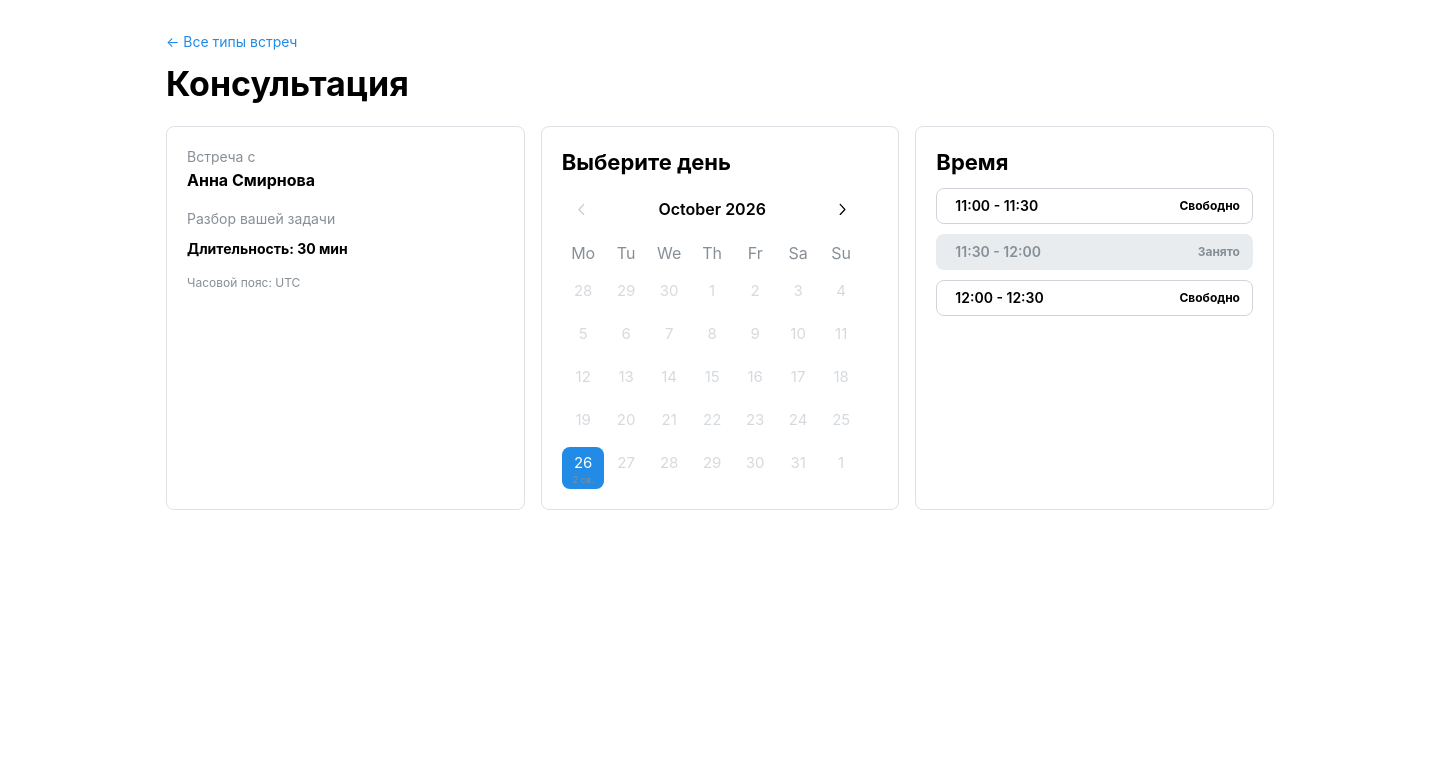
Scenario: гостевая страница: запись на выбранный тип встречи › пустое имя и кривая почта — ошибки полей, запрос не уходит
Click the button "11:00 - 11:30 Свободно". click: (997, 206)
box: top-left (936, 188), bottom-right (1253, 224)
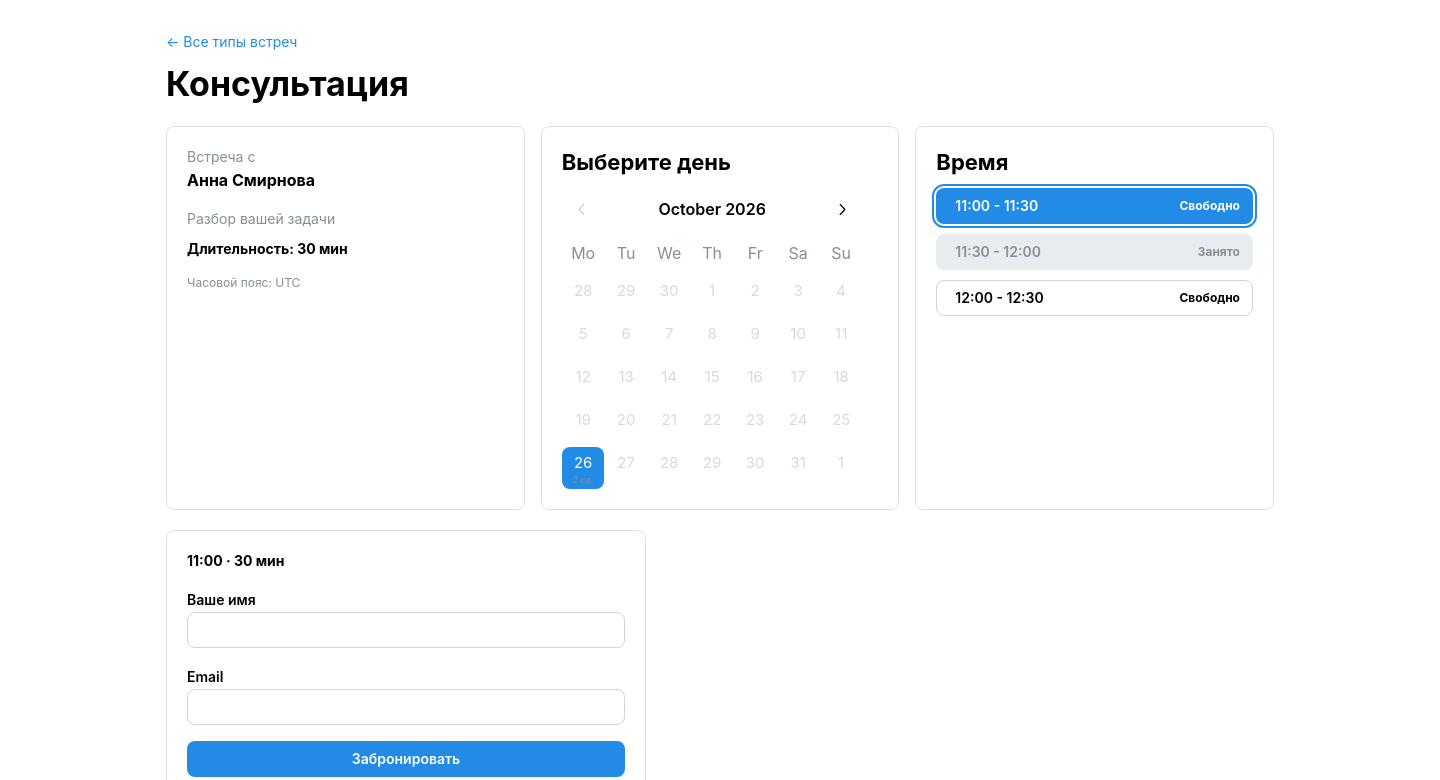
Type "не почта" into the field labelled "Email". click: (406, 707)
box: top-left (187, 689), bottom-right (625, 725)
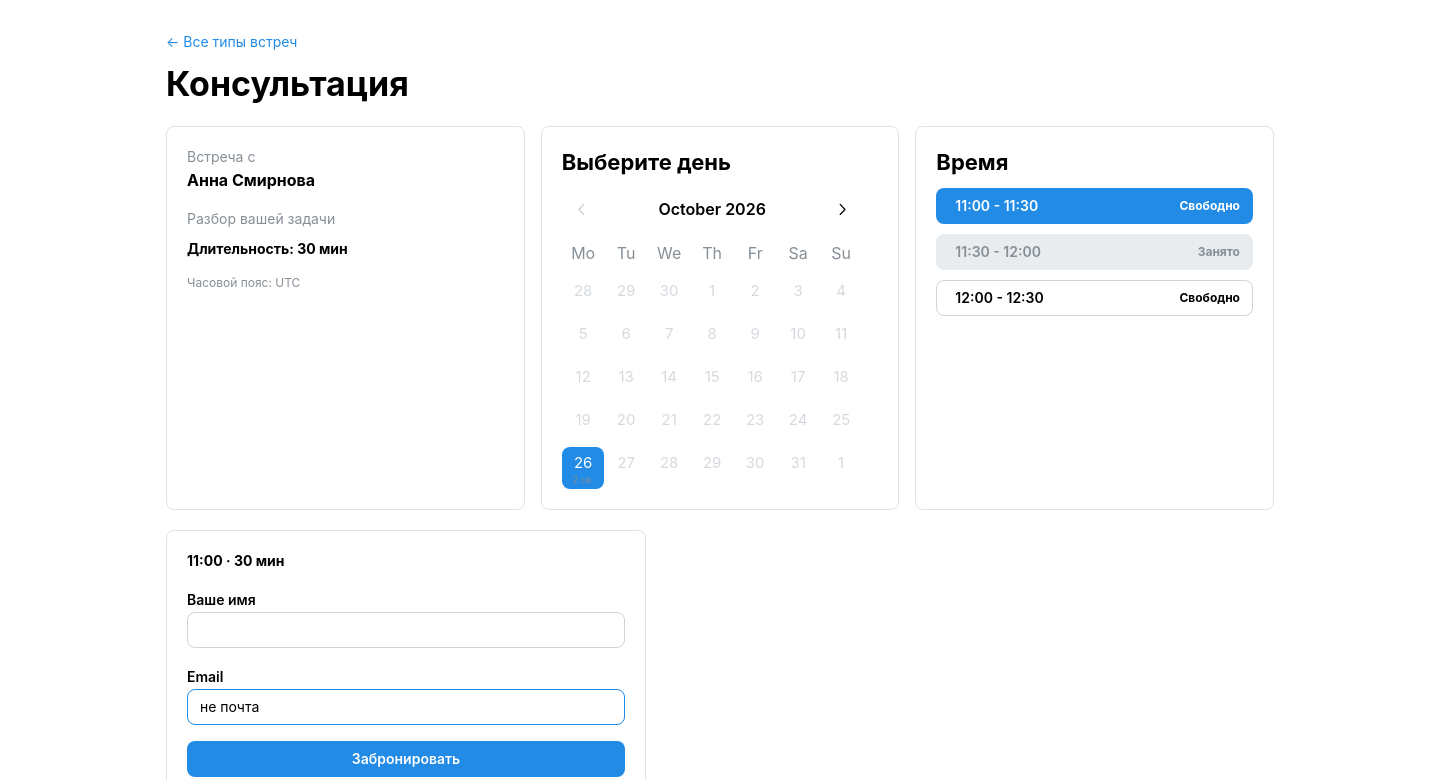
Click the button "Забронировать". click: (406, 759)
box: top-left (187, 741), bottom-right (625, 777)
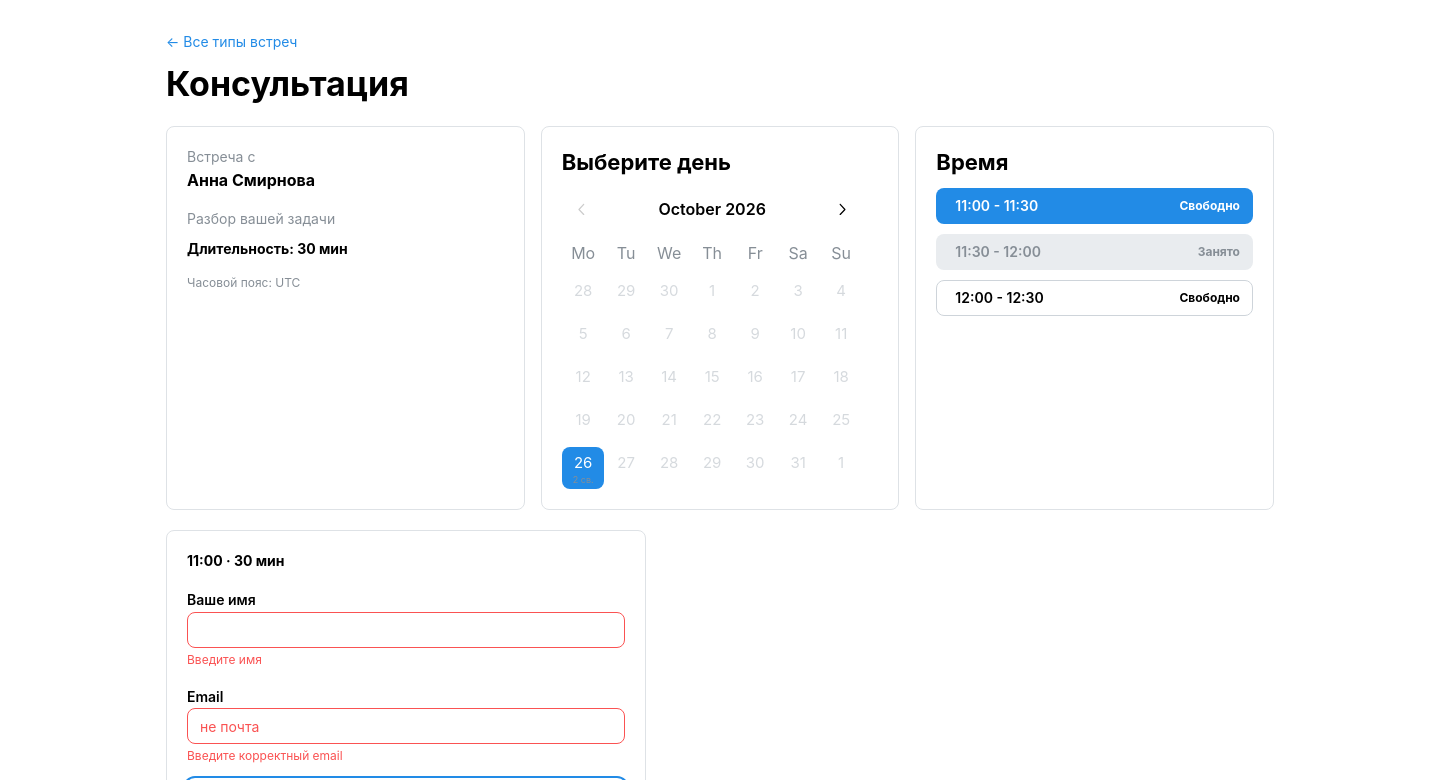
Check: the text "Введите имя" is shown, box top-left (187, 652), bottom-right (262, 667)
Check: the text "Введите корректный email" is shown, box top-left (187, 748), bottom-right (343, 763)
